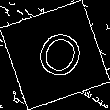O_SW: (24, 23, 86, 87)
